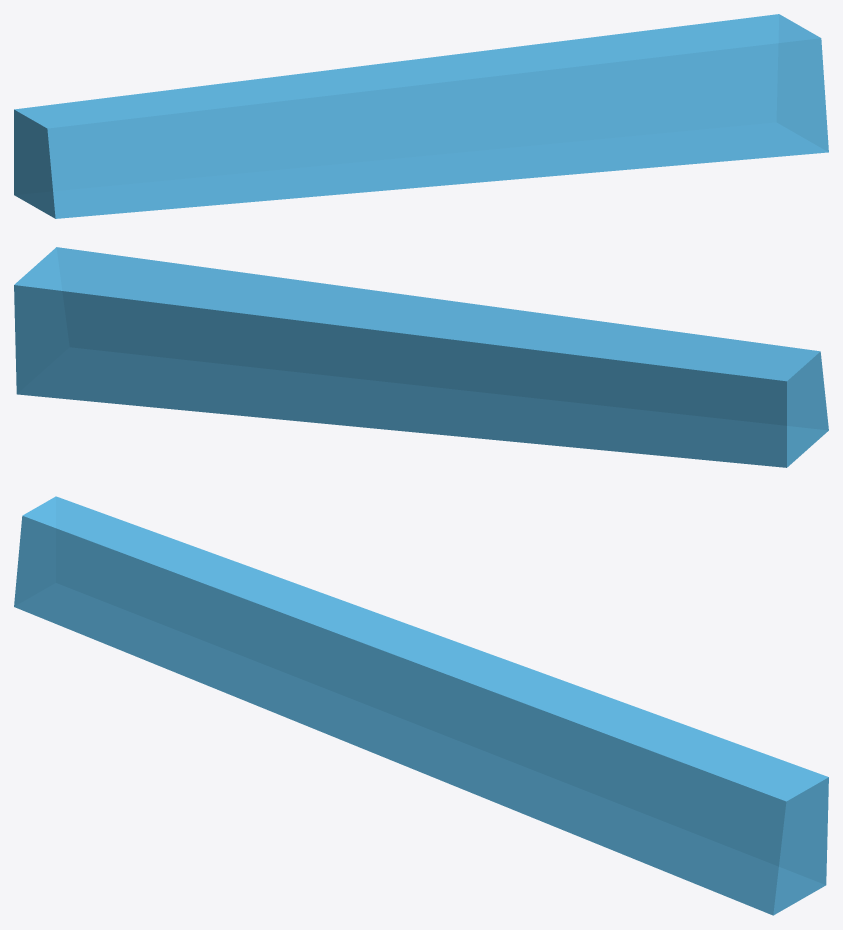
The model's file is Event_420094457_HErechit_49.fbx.
3 views of the same model, one above another, from view 1: azimuth 30°, elevation 25°; view 2: azimuth 150°, elevation 25°; view 3: azimuth 330°, elevation 25° (orthographic).
Visible parts, largest first — view 1: Model; view 2: Model; view 3: Model.
Part boxes in pixels (<box>): Model: <box>14,14,828,218</box>; Model: <box>14,247,828,467</box>; Model: <box>14,496,828,915</box>.
Size of the model in its own units: 2.66 by 0.6796 by 0.3163.
